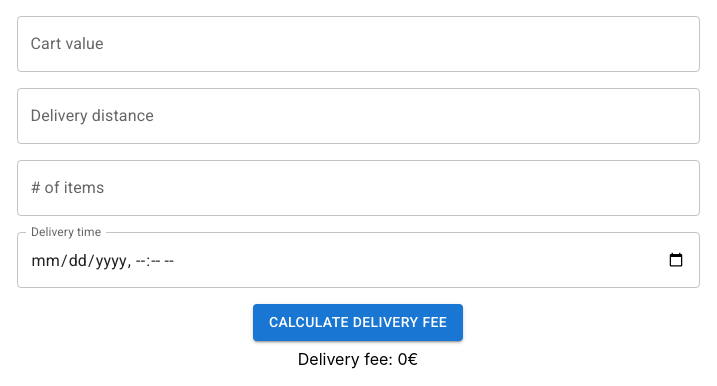
Test case: total delivery fee values based on inputs › minimum possible delivery fee is correct
Type "10" into the field labelled "Cart value" at (358, 44), box [16,16,700,72]
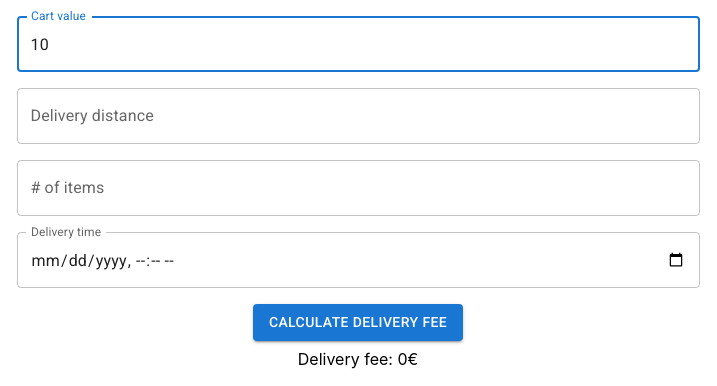
Type "1" into the field labelled "Delivery distance" at (358, 116), box [16,88,700,144]
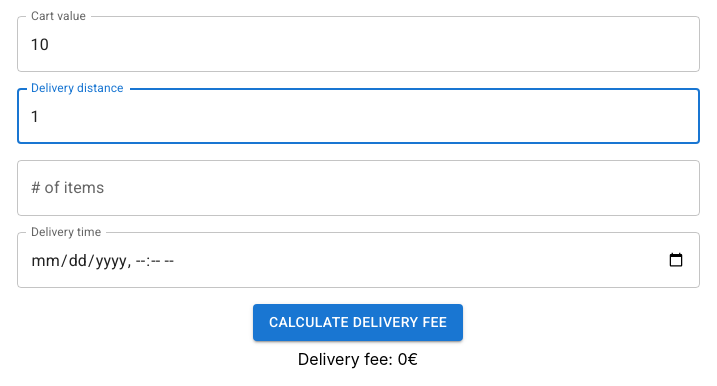
Type "4" into the field labelled "# of items" at (358, 188), box [16,160,700,216]
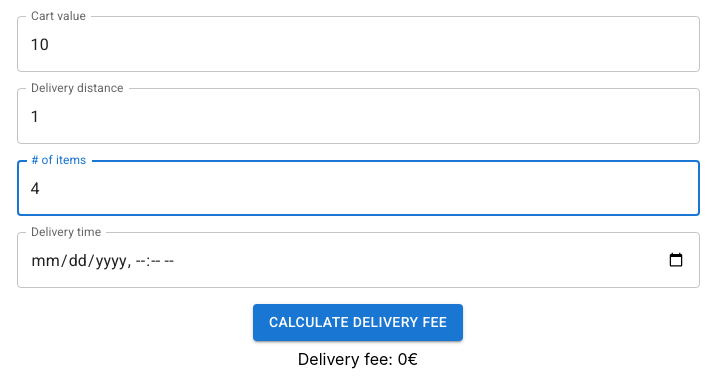
Type "2024-01-25T11:48" into the field labelled "Delivery time" at (358, 260), box [16,232,700,288]
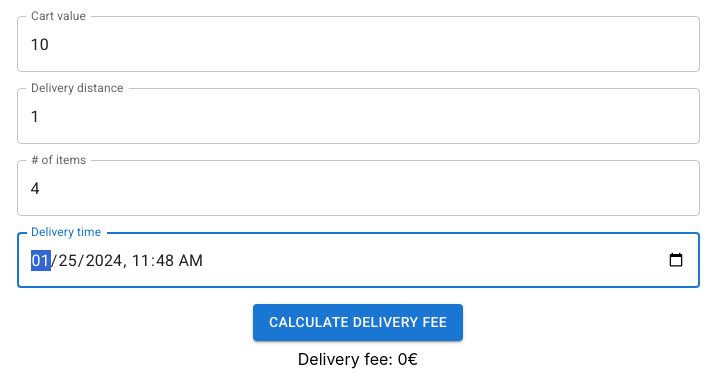
Click the button "Calculate delivery fee" at (358, 322), box [253,304,463,340]
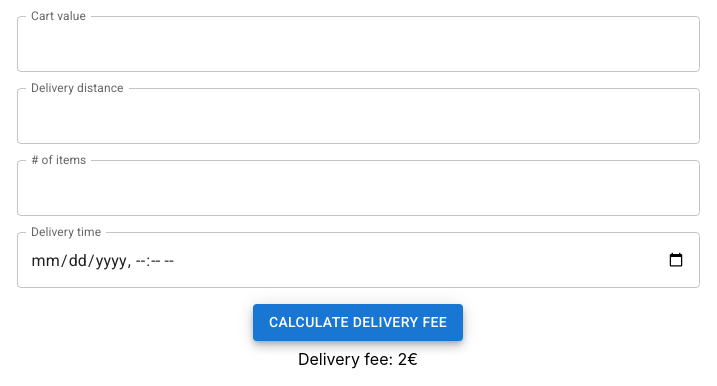
Now the text "Delivery fee: 0€" is gone
Now the text "Delivery fee: 2€" is shown, box [298,348,418,368]
